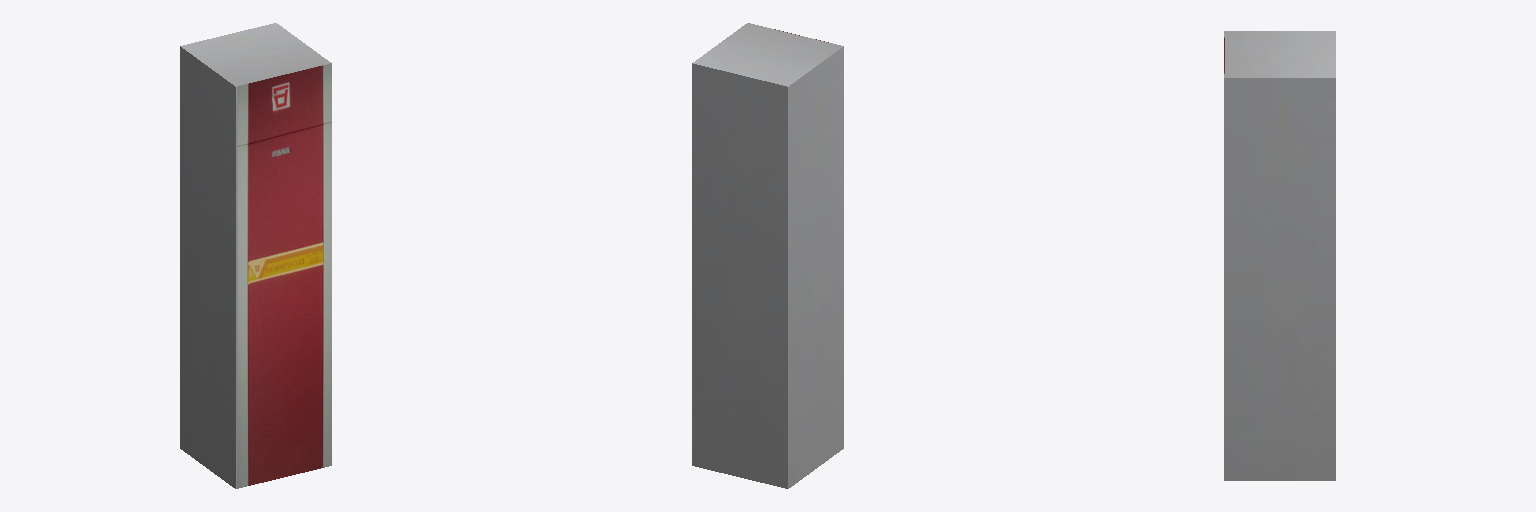
3 views of the same model, side by side, from view 1: azimuth 30°, elevation 25°; view 2: azimuth 150°, elevation 25°; view 3: azimuth 270°, elevation 25° (orthographic).
Parts seen in each view (by area): view 1: ____; view 2: ____; view 3: ____.
Part boxes in pixels (bbox=[...]): ____: bbox=[180, 23, 331, 488]; ____: bbox=[692, 23, 843, 488]; ____: bbox=[1224, 31, 1335, 480].
Size of the model in its own units: 400 by 1600 by 400.
1 materials, 1 textured.